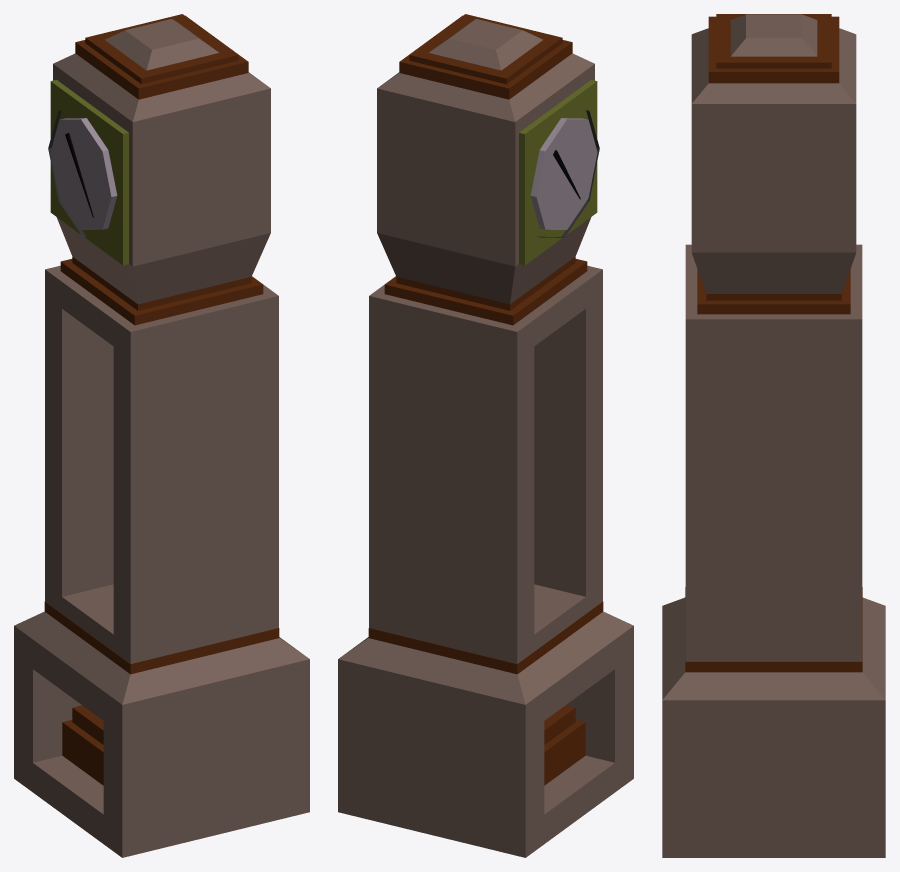
File: Big_CLOCK.fbx
The picture shows the model from 3 angles, left to right: view 1: azimuth 30°, elevation 25°; view 2: azimuth 150°, elevation 25°; view 3: azimuth 270°, elevation 25°; orthographic projection. The views are drawn at different scales.
Visible parts, largest first — view 1: Cube.071, Cube.075, Circle.005, Cube.072, Cube.076, Cube.077, Cube.079; view 2: Cube.071, Cube.075, Circle.005, Cube.072, Cube.076, Cube.077, Cube.079; view 3: Cube.071, Cube.075, Cube.076, Cube.077.
Part boxes in pixels (x1,y1,x2,y2): Cube.071: [14, 19, 309, 857]; Cube.075: [75, 14, 248, 99]; Circle.005: [48, 110, 117, 237]; Cube.072: [50, 79, 128, 265]; Cube.076: [60, 256, 263, 325]; Cube.077: [44, 601, 279, 674]; Cube.079: [62, 705, 103, 785]; Cube.071: [338, 19, 633, 857]; Cube.075: [399, 14, 572, 99]; Circle.005: [530, 110, 599, 237]; Cube.072: [519, 79, 597, 265]; Cube.076: [384, 256, 587, 325]; Cube.077: [368, 601, 603, 674]; Cube.079: [544, 705, 585, 785]; Cube.071: [662, 14, 885, 857]; Cube.075: [708, 14, 839, 83]; Cube.076: [697, 269, 850, 314]; Cube.077: [685, 587, 862, 672].
Size of the model in its own units: 80 by 310 by 80.
